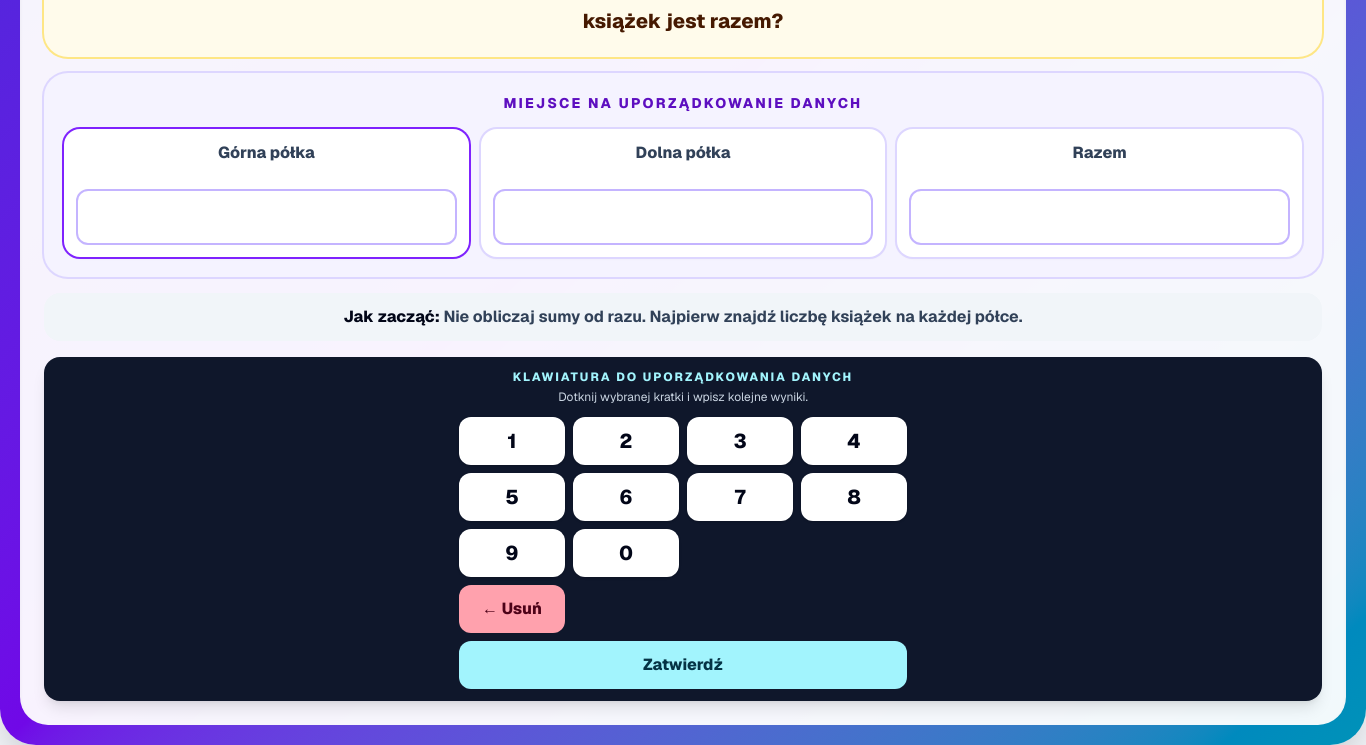
Test: Grade4StoryProblemsTwoLessonLab › nie przyjmuje niepełnego rozwiązania
The image size is (1366, 745).
(page scrolled)
What coordinates should you click on to do the following:
click the button "2"
I would click on:
 (626, 441)
Its box is left=573, top=417, right=679, bottom=465.
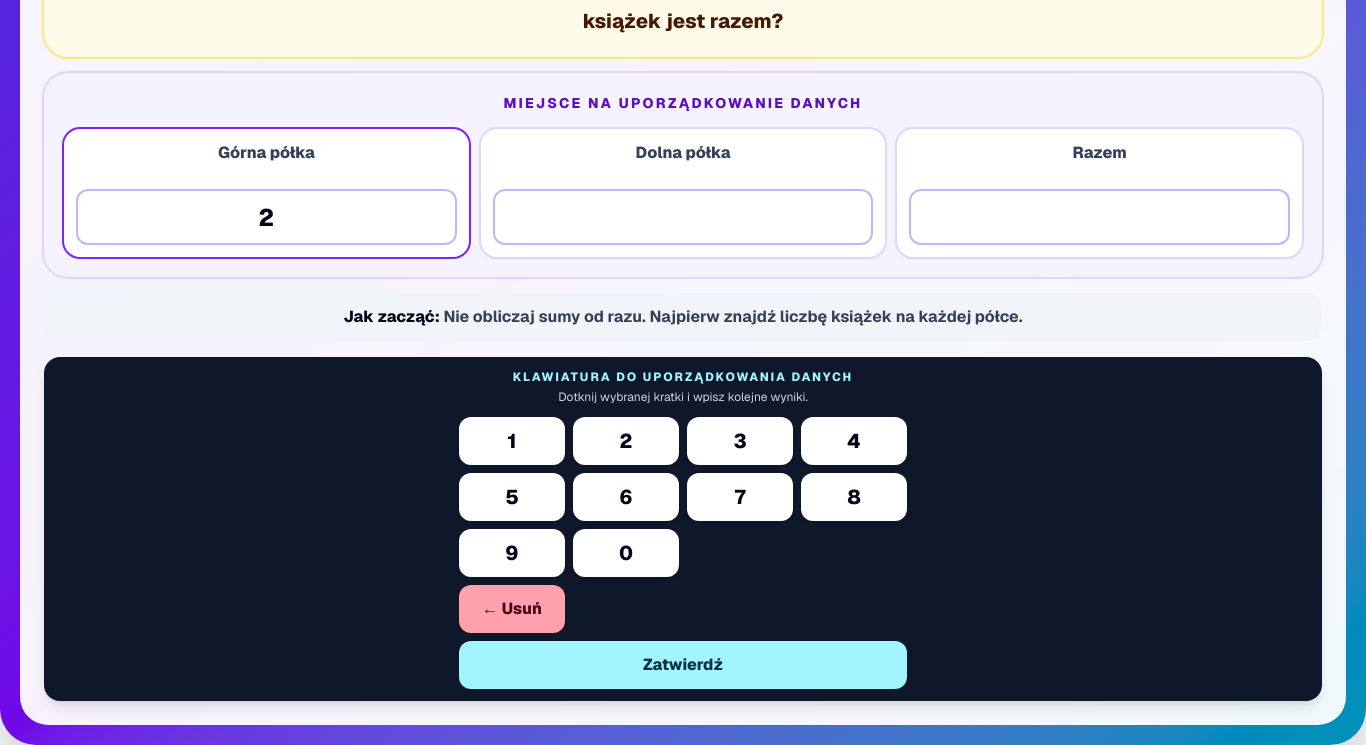
What coordinates should you click on to do the following:
click the button "5"
I would click on:
 (512, 497)
Its box is left=459, top=473, right=565, bottom=521.
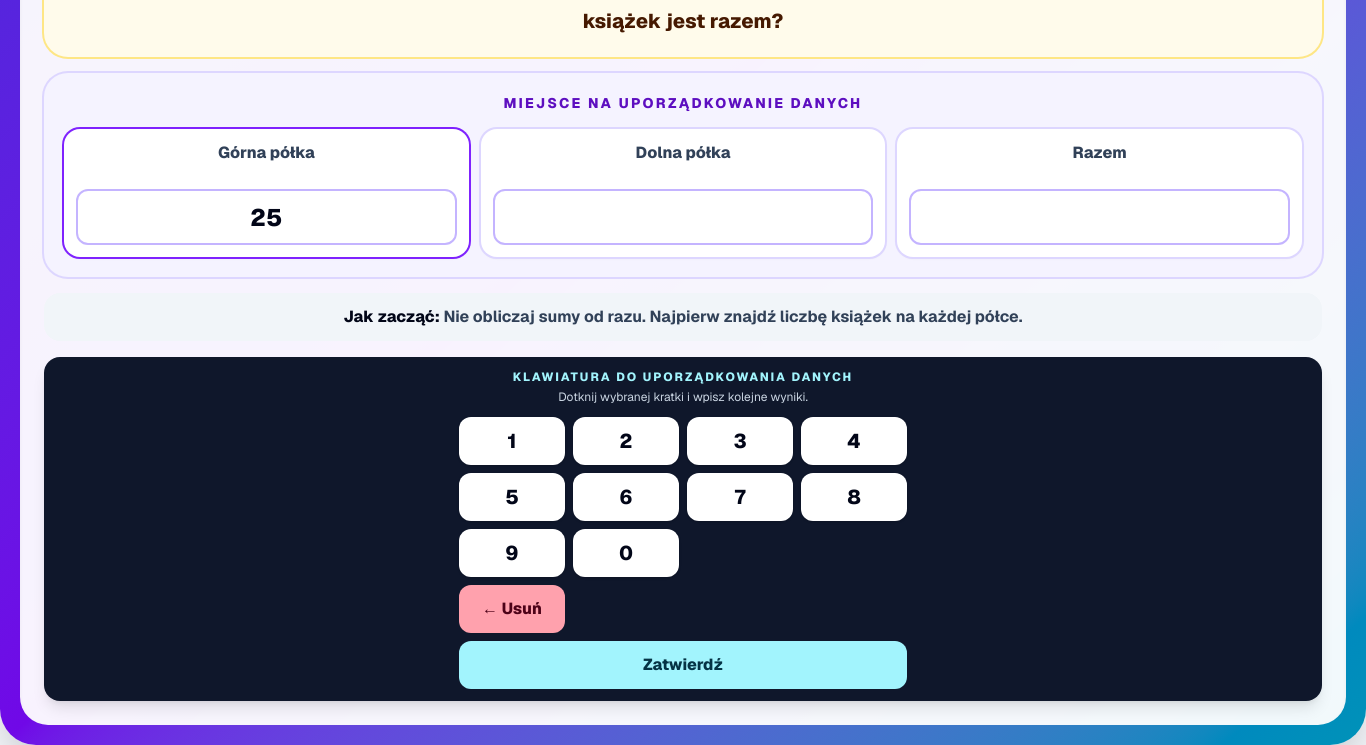
What coordinates should you click on to do the following:
click the button "Zatwierdź"
I would click on:
 (683, 665)
Its box is left=459, top=641, right=907, bottom=689.
(page scrolled)
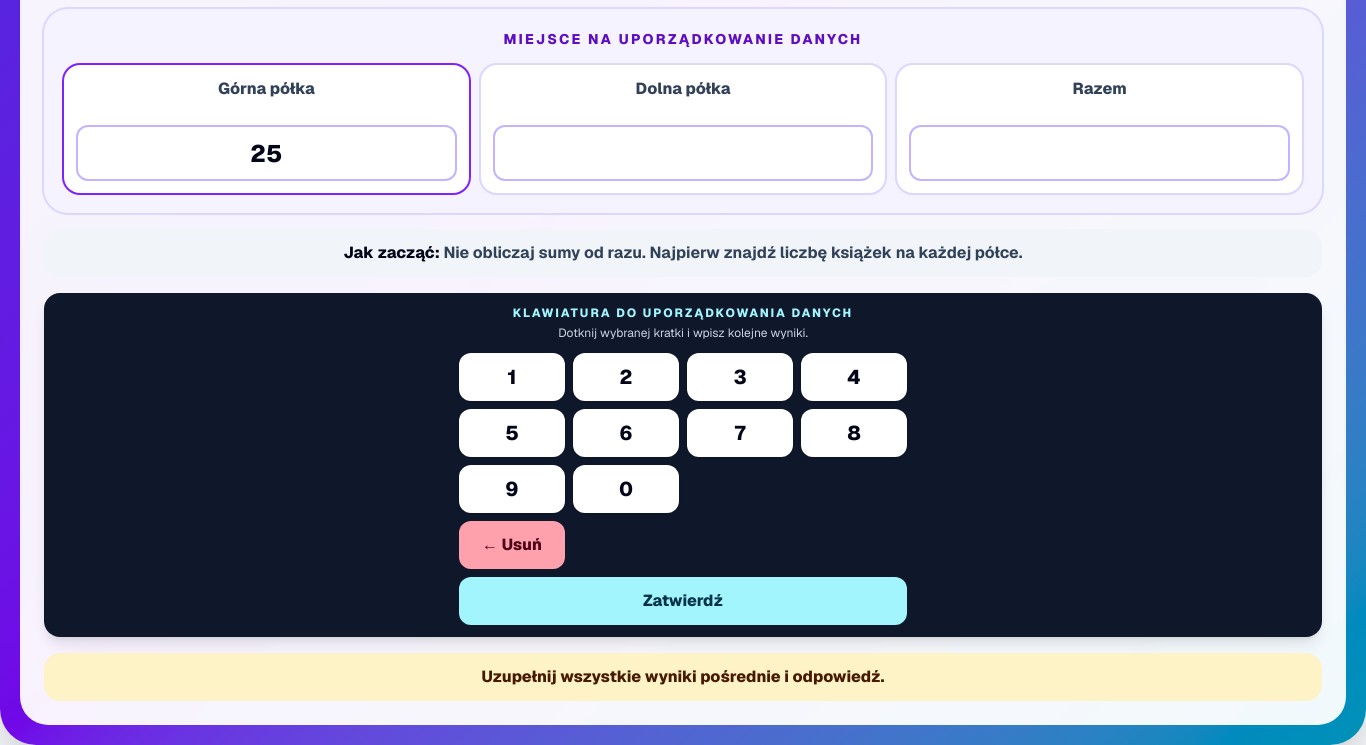
Result: the message reads "Uzupełnij wszystkie wyniki pośrednie i odpowiedź." at left=481, top=666, right=885, bottom=687
